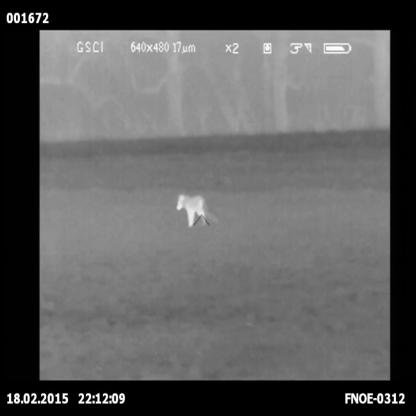rehkitze: (175, 193, 212, 232)
